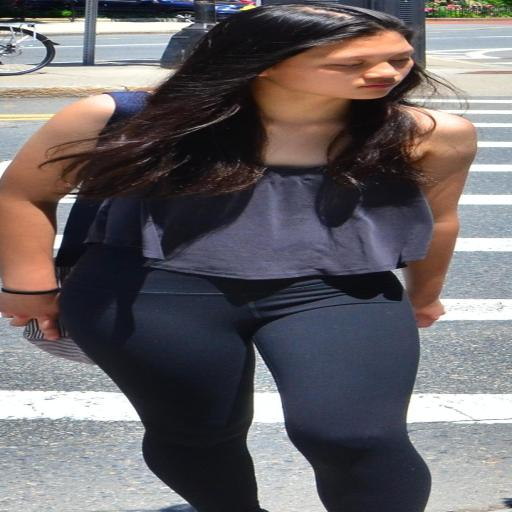person: (0, 3, 476, 511)
